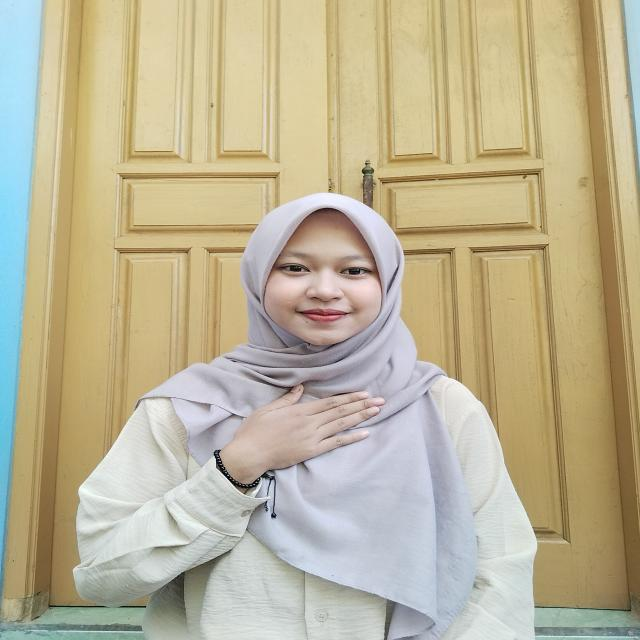tolong: (175, 379, 388, 512)
